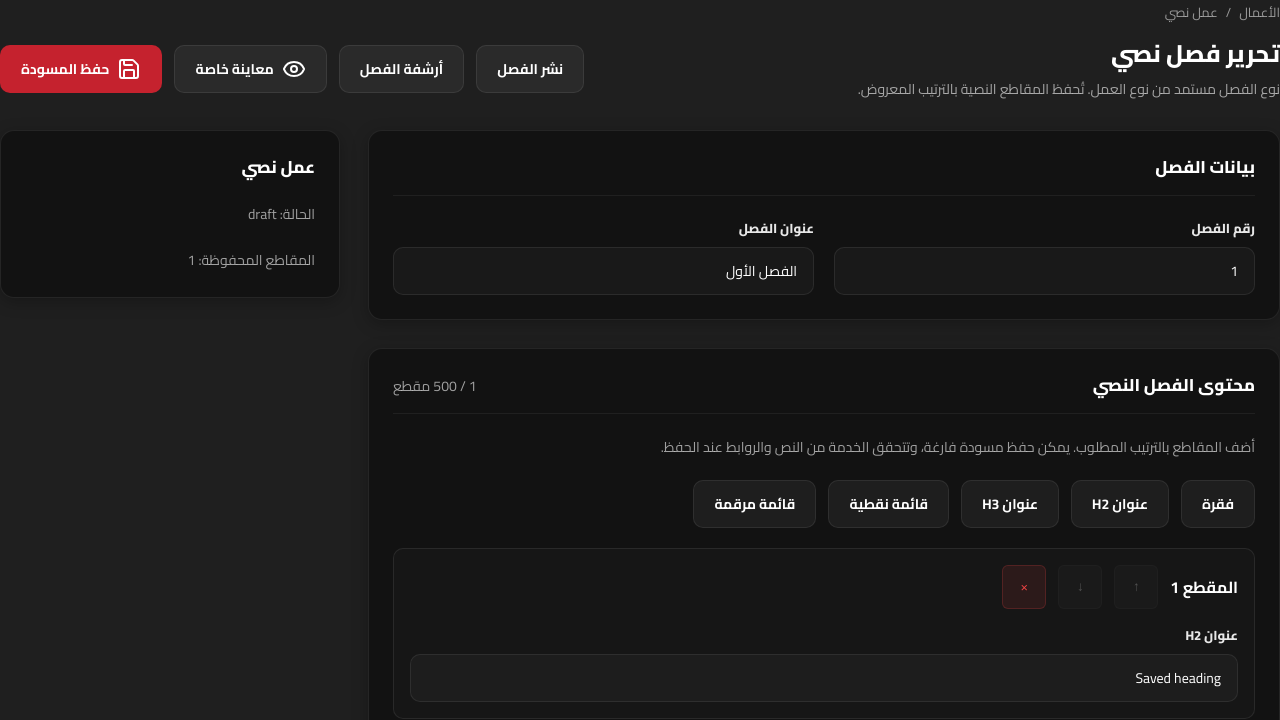
Test: text Chapter form › keeps an unsafe link in the draft for correction without sending it
This screenshot has width=1280, height=720.
Click the button "فقرة" at (1218, 504), box 1181,480 -> 1255,528
(page scrolled)
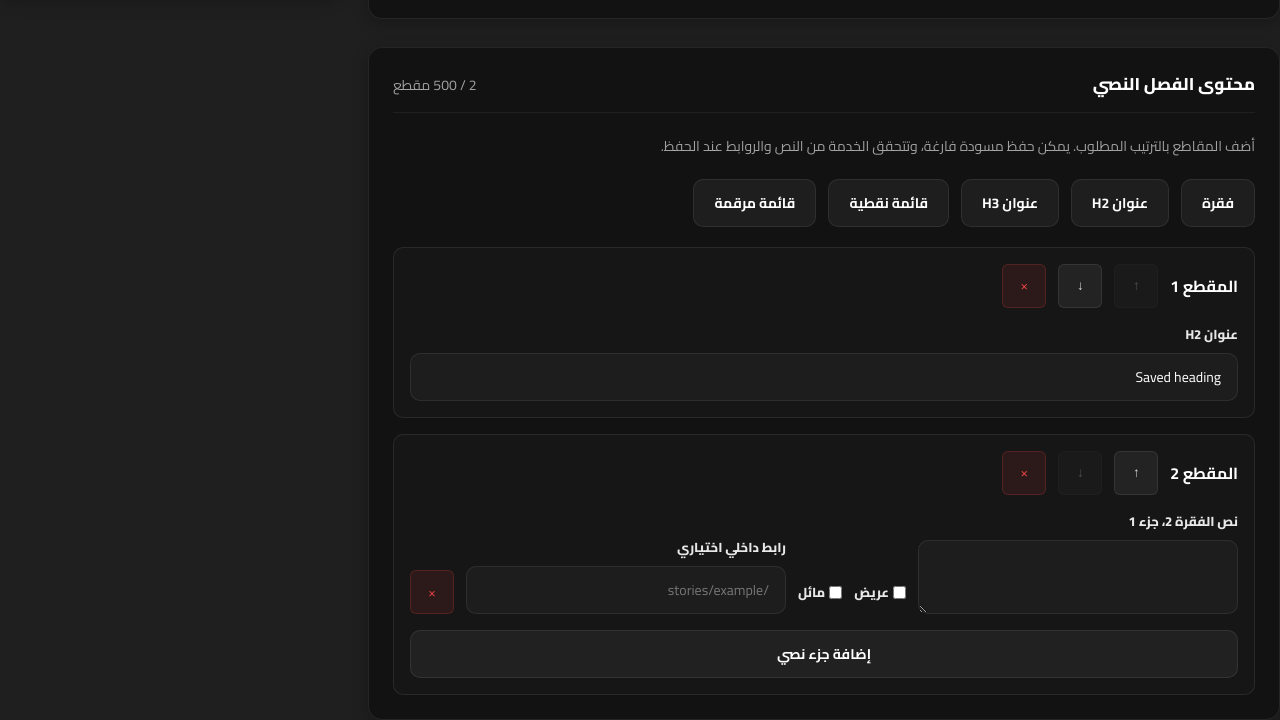
Type "External" into the text box labelled "نص الفقرة 2، جزء 1" at (1078, 577), box 918,540 -> 1238,614
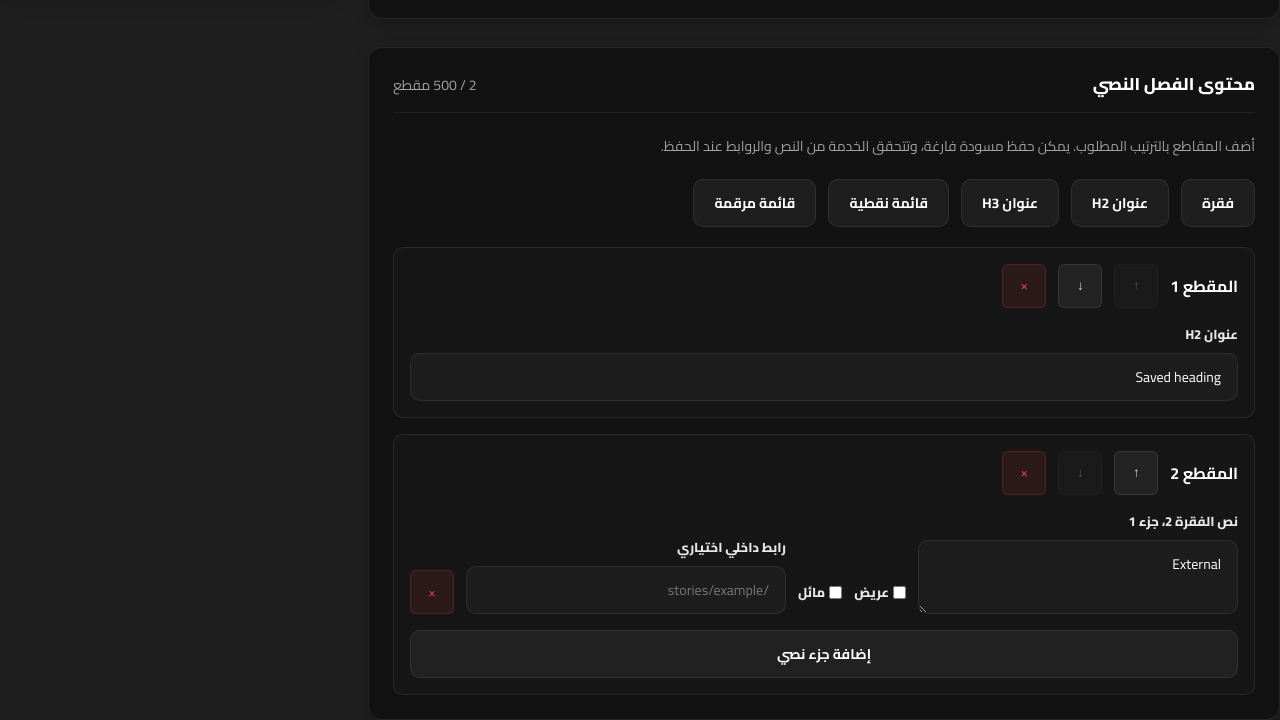
Type "https://example.com" into the field labelled "رابط داخلي اختياري" at (626, 590), box 466,566 -> 786,614
(page scrolled)
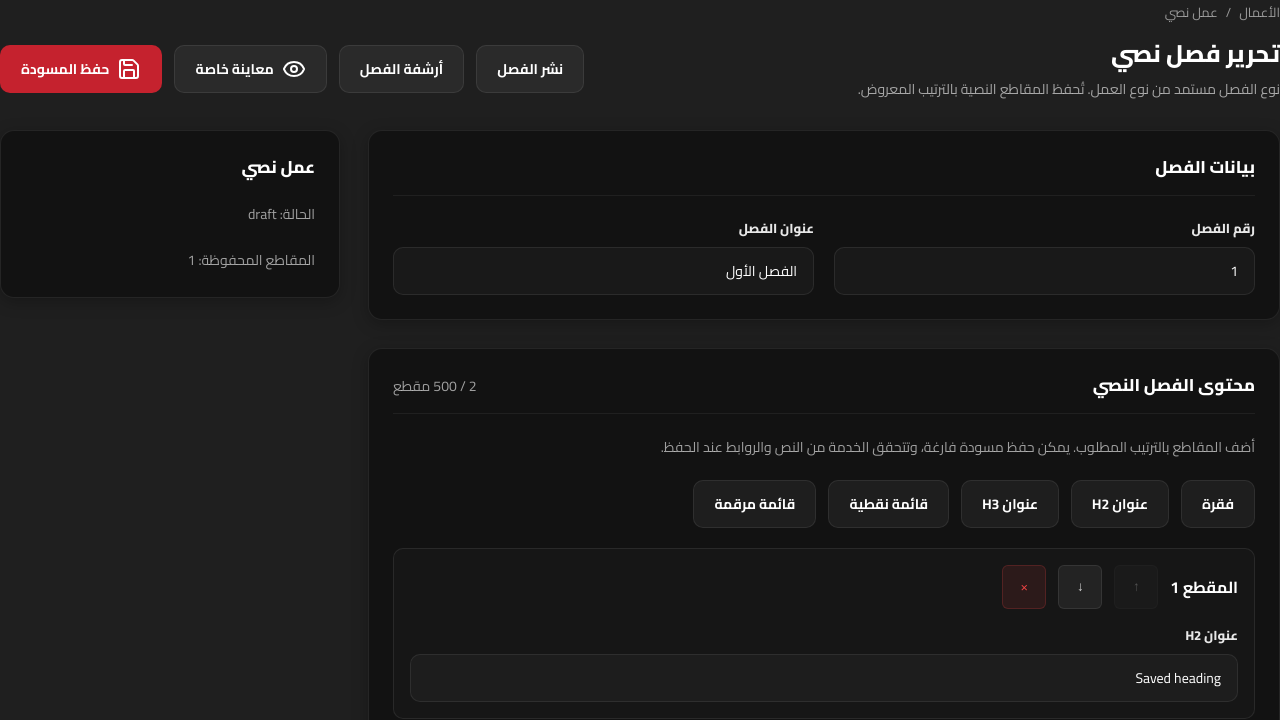
Click the button "حفظ المسودة" at (81, 69), box 0,45 -> 162,93
(page scrolled)
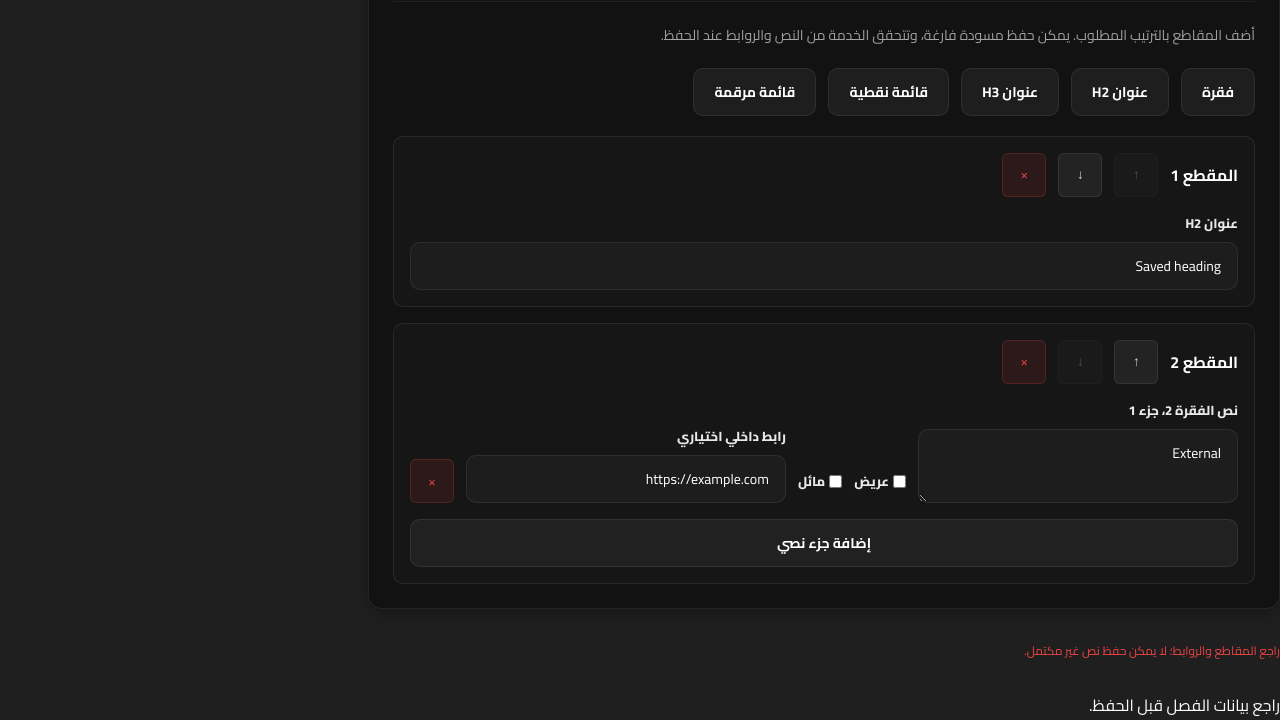
Result: the message "راجع المقاطع والروابط؛ لا يمكن حفظ نص غير مكتمل." is shown at 1024,639 -> 1279,662
